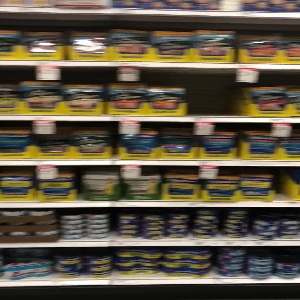void: (188, 67, 241, 118)
